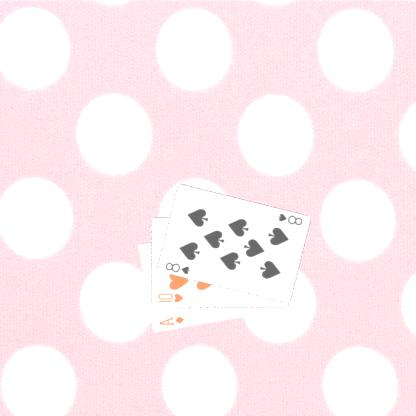10H: (156, 291, 184, 304)
8S: (162, 259, 191, 276), (275, 210, 304, 227)
AD: (156, 314, 185, 328)
